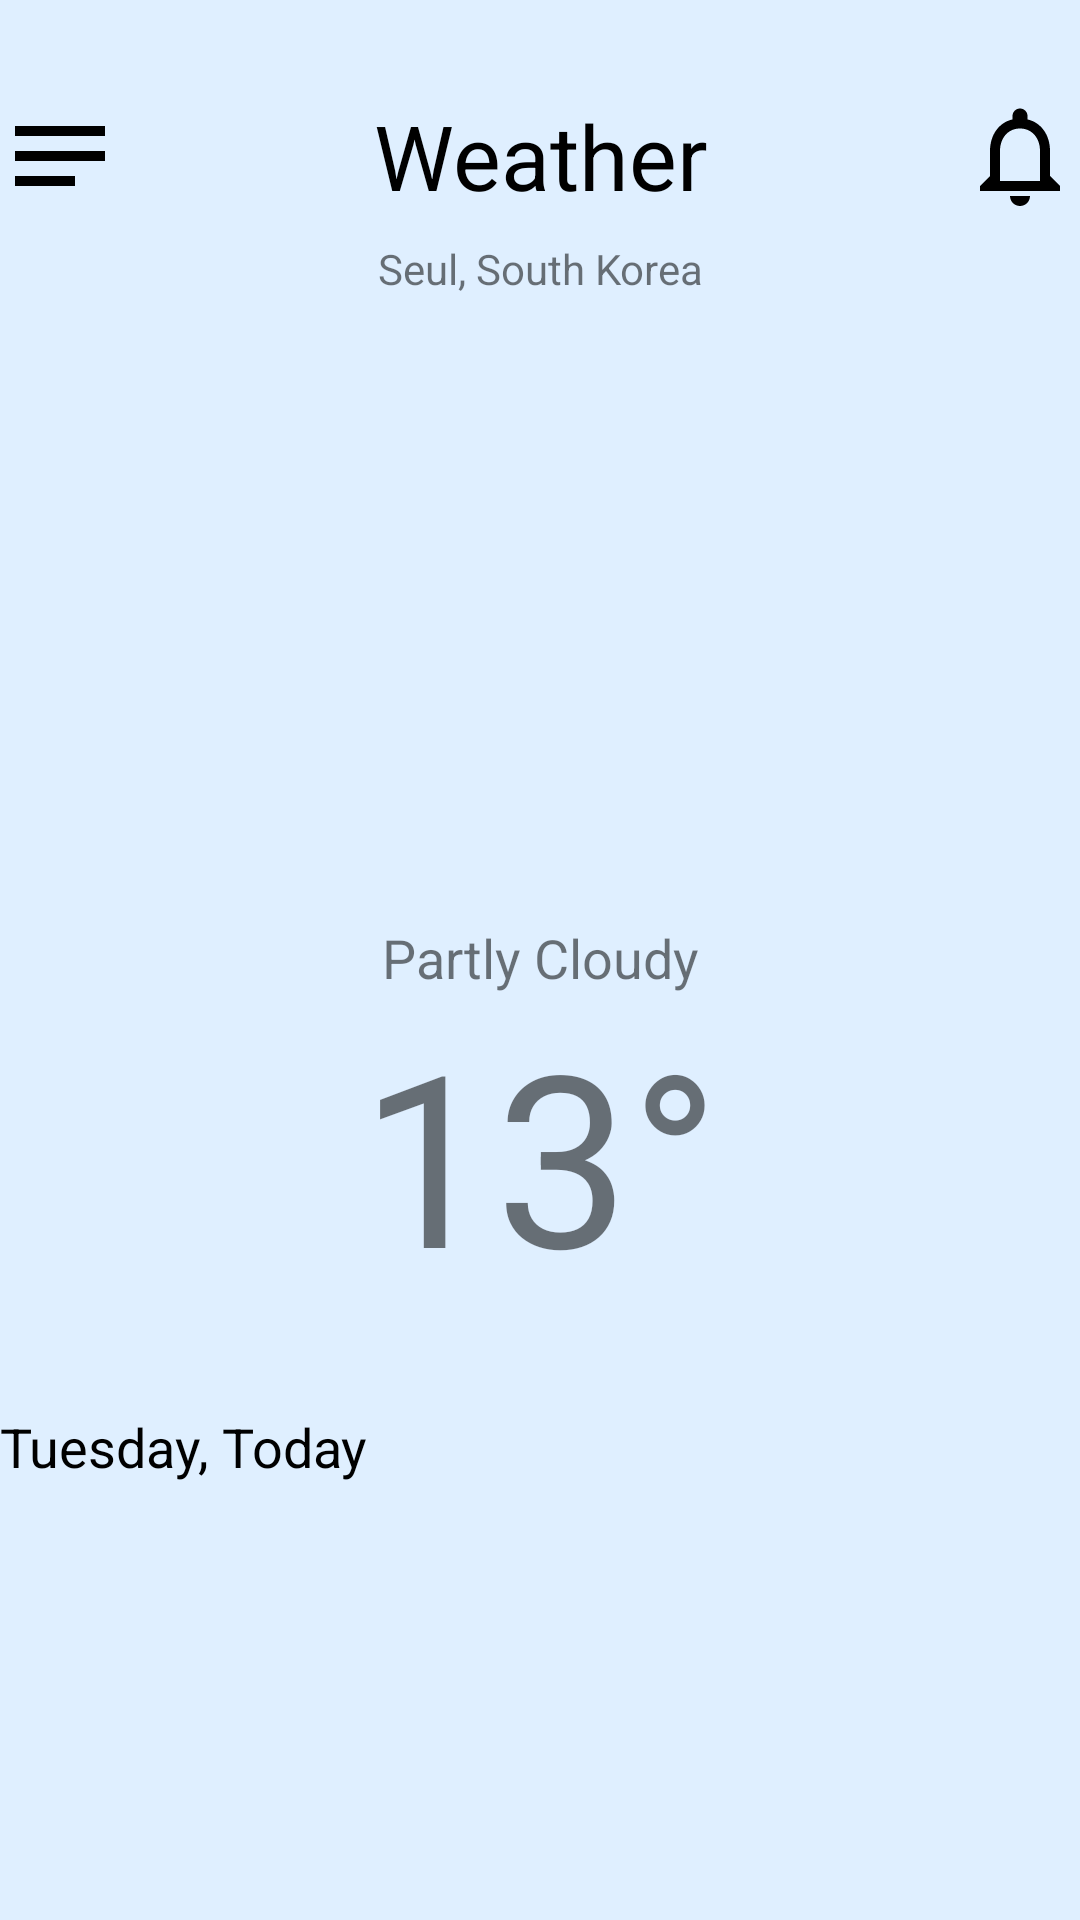

Where icons sit on this 1080w x 1920h app screen, as (x1, y1, x2, y2):
navigation menu: (15, 126, 105, 186)
notification: (980, 108, 1060, 206)
